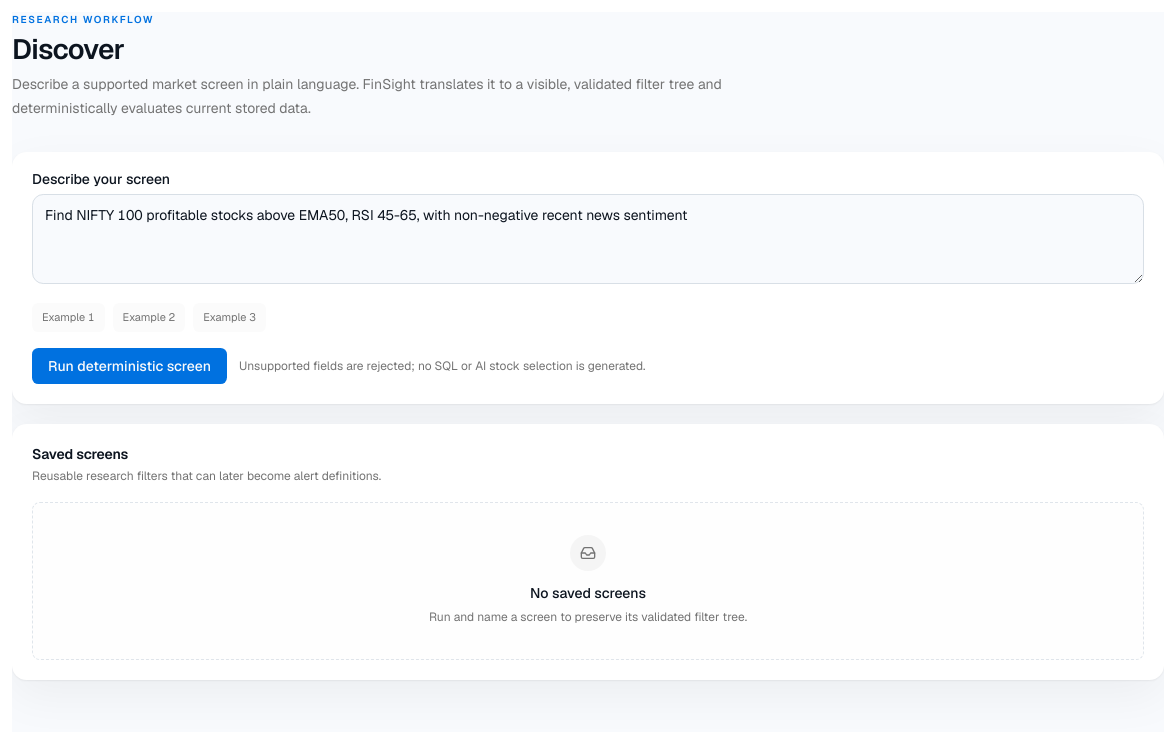
Scenario: DiscoverPage › renders the validated AST explanation and deterministic results
The image size is (1164, 732).
Replace the text in the text box labelled "Describe your screen" with "NIFTY 100 profitable stocks above EMA50" at (588, 239), box [32,194,1144,284]
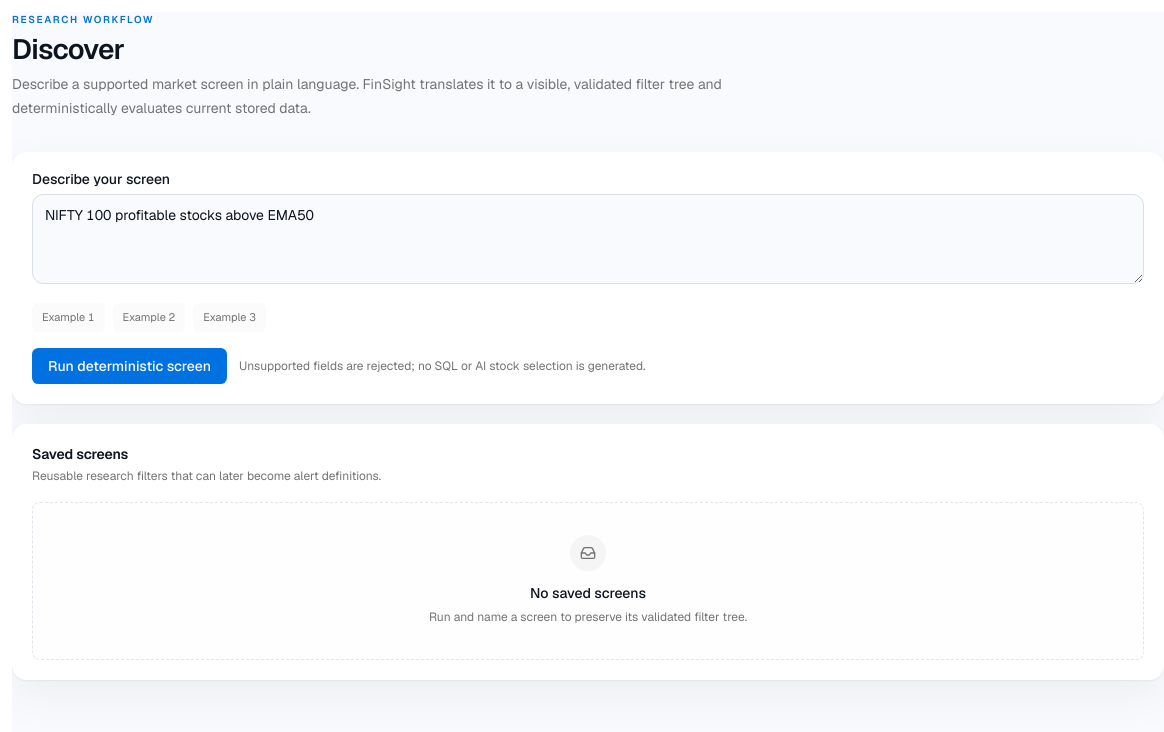
Click the button "Run deterministic screen" at (130, 366), box [32,348,227,384]
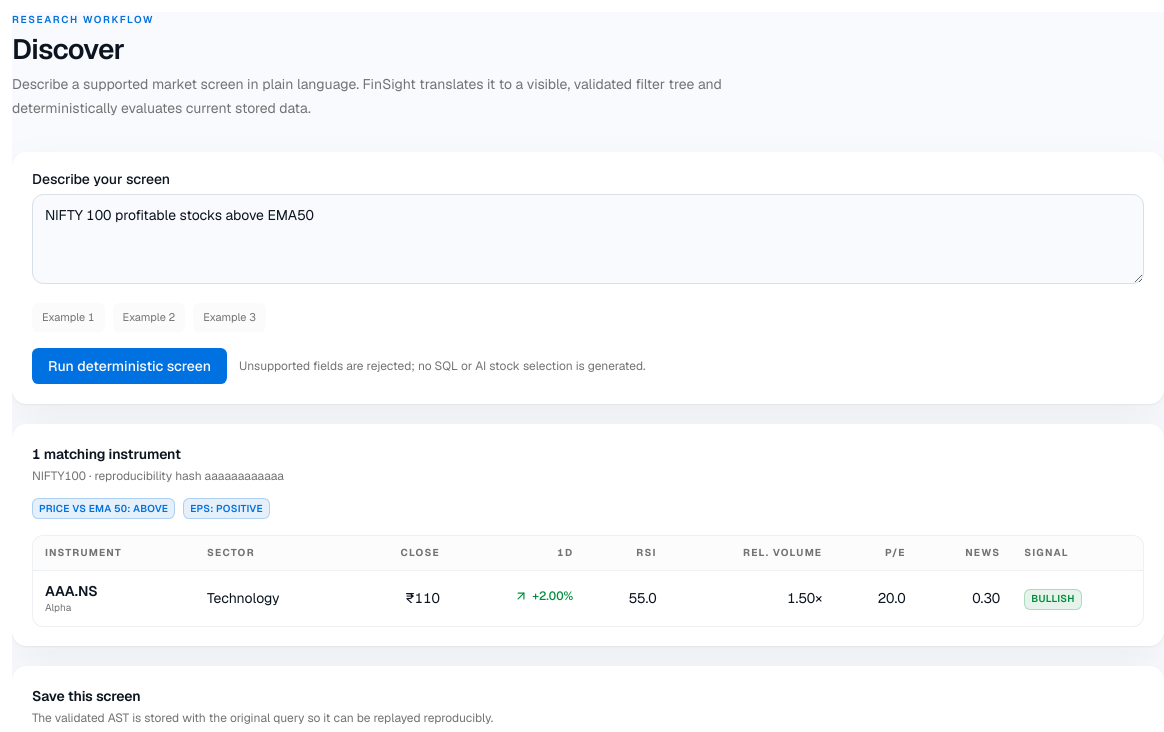
Expected: the link "AAA.NS Alpha" is shown, [45,582,98,614]
Expected: the text "Price vs EMA 50: above" is shown, [32,498,175,519]
Expected: the text "NIFTY100 · reproducibility hash aaaaaaaaaaaa" is shown, [32,466,284,486]
